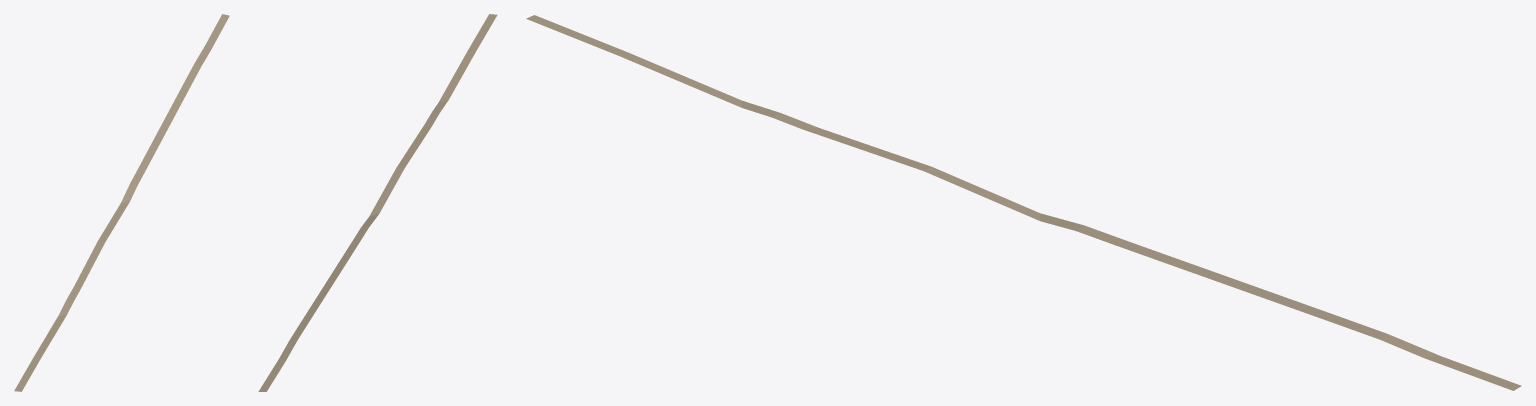
File: farm_-6_-3_track.glb
3 views of the same model, side by side, from view 1: azimuth 30°, elevation 25°; view 2: azimuth 210°, elevation 25°; view 3: azimuth 270°, elevation 25° (orthographic). The views are drawn at different scales.
Visible parts, largest first — view 1: geometry_0; view 2: geometry_0; view 3: geometry_0.
Part boxes in pixels (left/top/right/bottom): geometry_0: left=14, top=14, right=229, bottom=391; geometry_0: left=258, top=14, right=497, bottom=391; geometry_0: left=526, top=15, right=1521, bottom=390.
Bounding box in the file's own units: 257 × 9.15 × 267.
